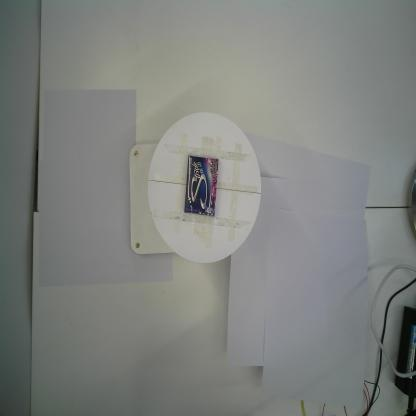Gum: (184, 155, 218, 217)
